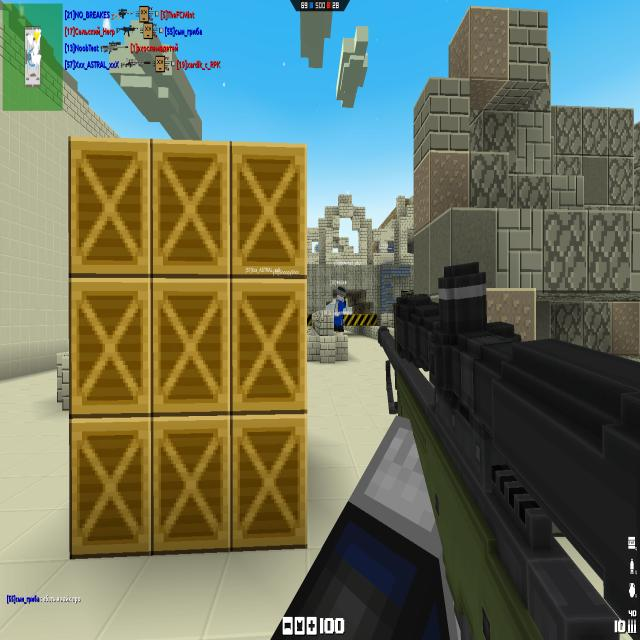player: (334, 286, 348, 334)
